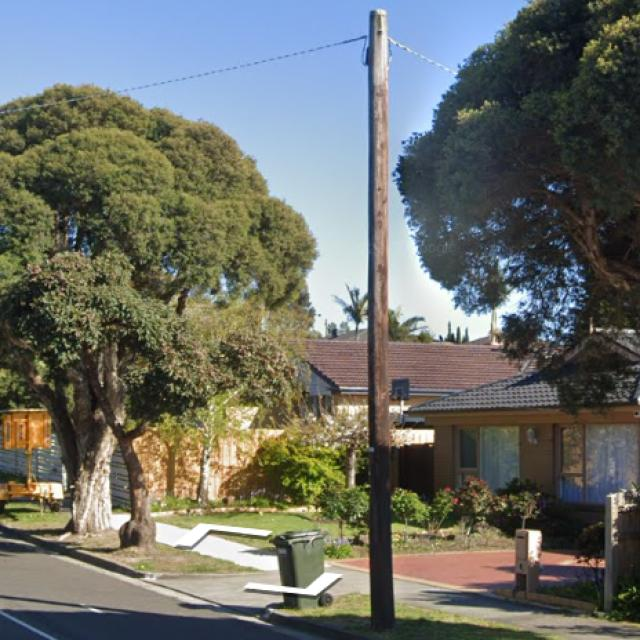timber-pole: (367, 9, 397, 632)
